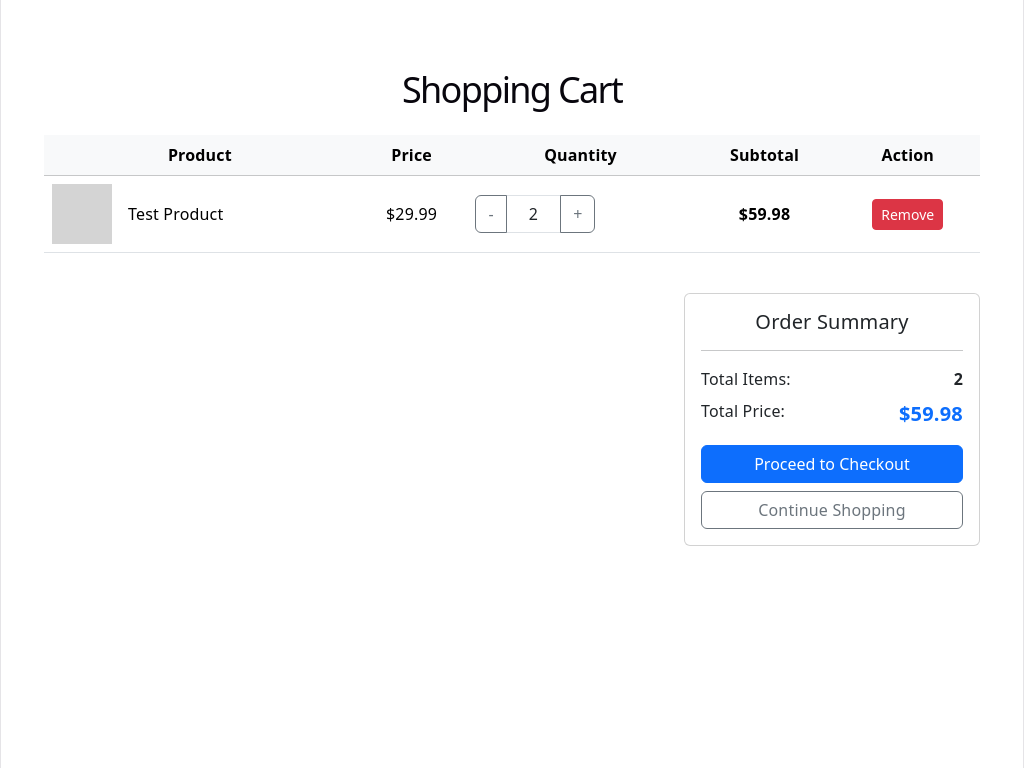
Test: Cart › opens the confirmation modal when Proceed to Checkout is clicked
Click the button "Proceed to Checkout" at point(832, 464), box [701,445,963,483]
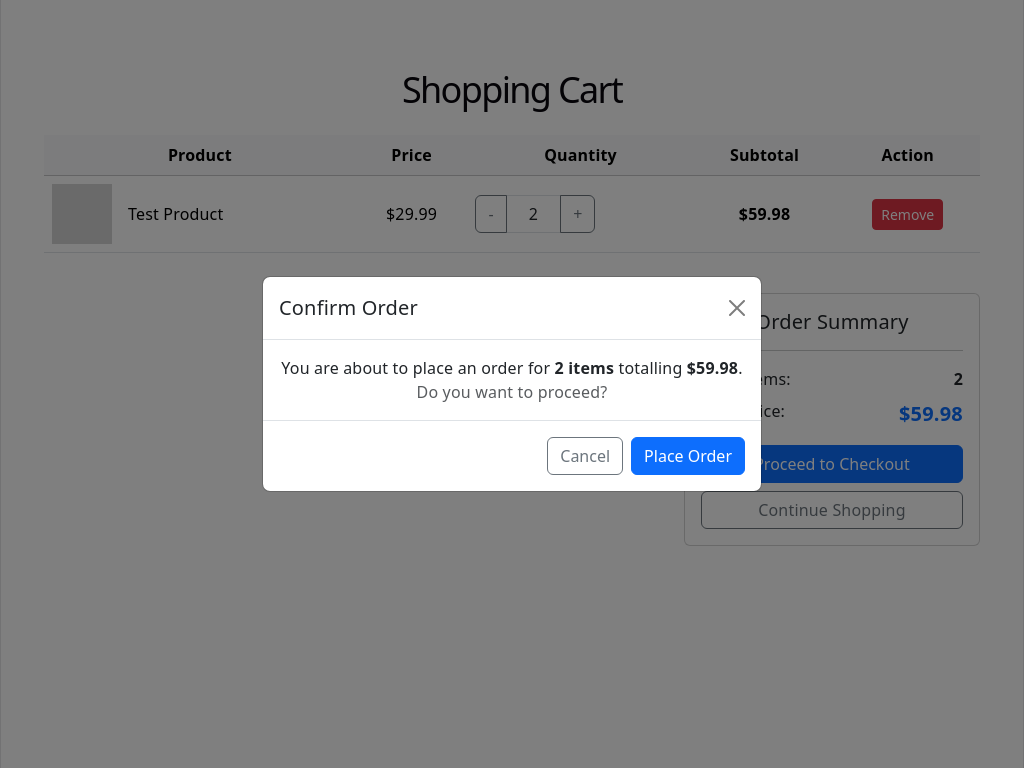
Check: the dialog is shown, box [262,276,762,492]
Check: the heading "Confirm Order" is shown, box [279,293,418,323]
Check: the button "Place Order" is shown, box [631,437,745,475]
